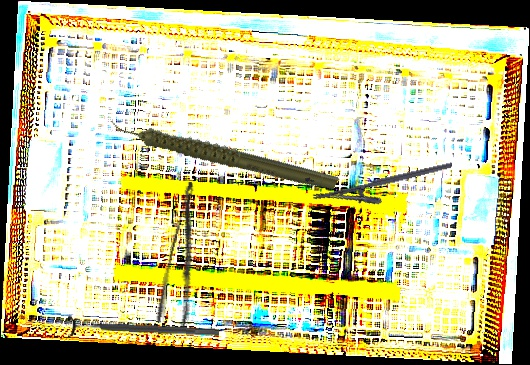Dressing Forceps: (153, 181, 219, 329)
Fixation Ring: (67, 315, 220, 345)
Handpiece: (107, 69, 341, 235)
Needle Holder: (311, 161, 458, 219)
